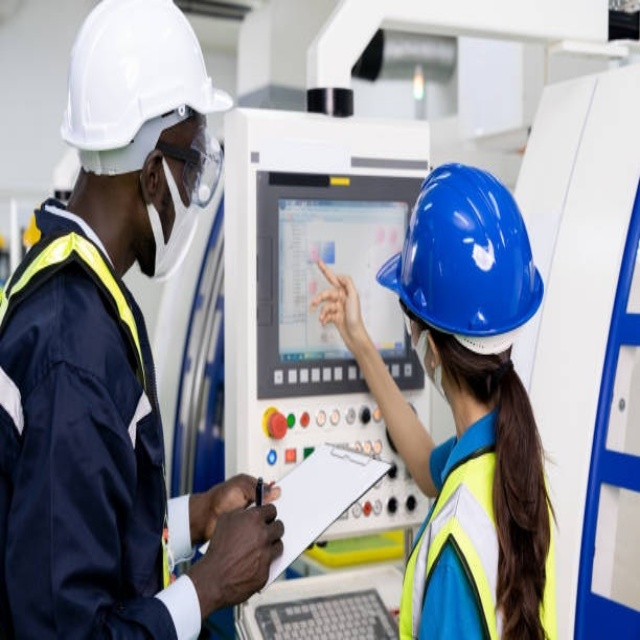Gafas: (153, 127, 225, 207), (396, 293, 429, 339)
Mascara: (147, 146, 203, 285), (408, 325, 448, 402)
Sin_guantes: (194, 500, 287, 613), (193, 466, 287, 547), (307, 256, 364, 347)
